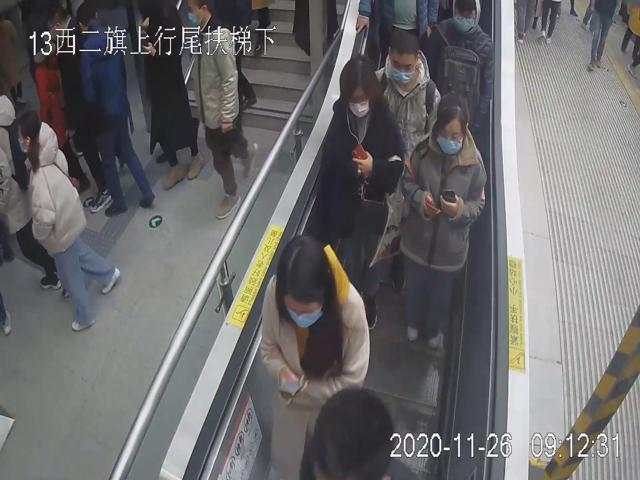person: (259, 232, 370, 480), (14, 111, 122, 330), (399, 92, 486, 352), (320, 52, 401, 327), (367, 32, 441, 169), (432, 0, 495, 142)
